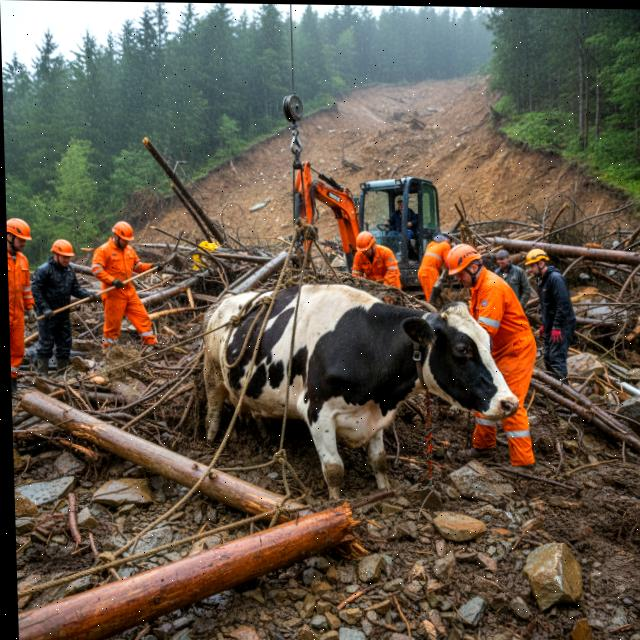civilian: (488, 243, 534, 309), (385, 192, 419, 254)
cow: (193, 268, 530, 521)
rescuer: (440, 237, 553, 474), (88, 215, 166, 365), (26, 230, 93, 377), (518, 243, 581, 389), (6, 206, 41, 395), (340, 225, 404, 304), (417, 223, 460, 312)
